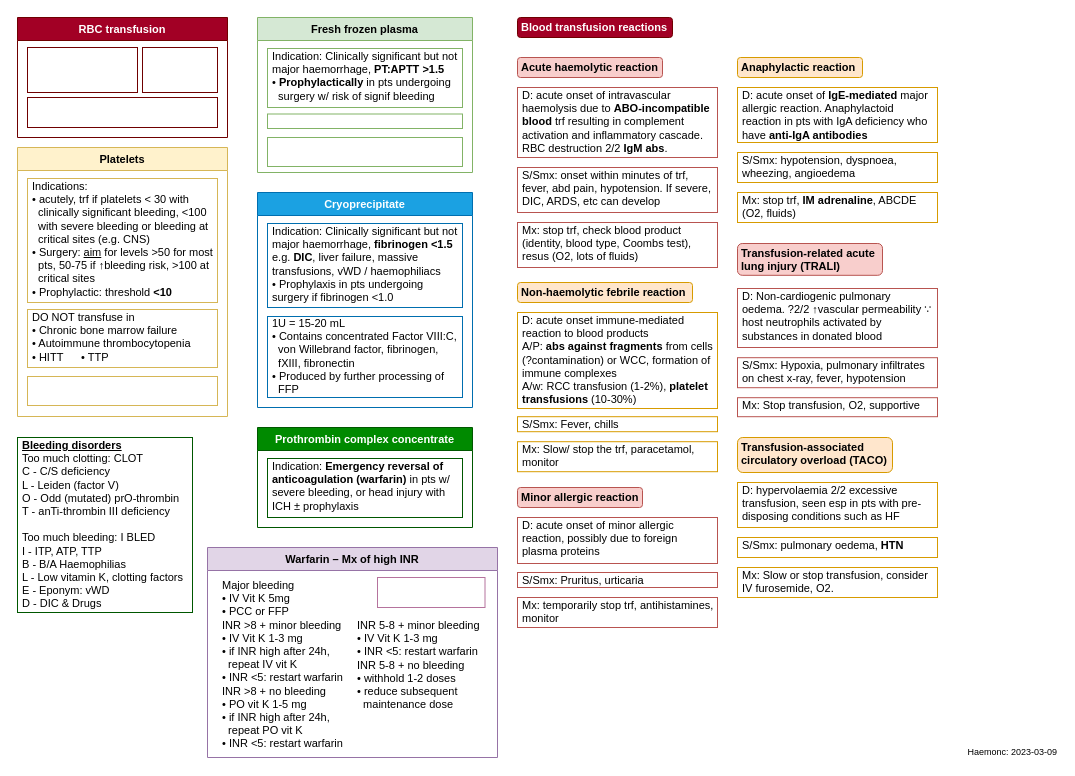
The diagram is 1075 pixels wide and 776 high, and some of its shapes have lost their labels. Each missing label, with the centre of its shape:
"** Platelet trf have the highest risks of contamination" belongs at point (122, 391).
"1U = 150-220 mL" belongs at point (364, 120).
"For pts with ACS • Threshold: 70 g/dL • Target: 70-90 g/dL" belongs at point (82, 69).
"RBC stored at 4˚C before infusion Usually, 1U over 90-120 minutes" belongs at point (122, 112).
"STOP WARFARIN IN ALL PATIENTS" belongs at point (430, 592).
"Universal donor is AB+ (no anti-A or anti-B abs)" belongs at point (364, 151).
"Without ACS • 80 g/dL • 80-100 g/dL" belongs at point (180, 69).
